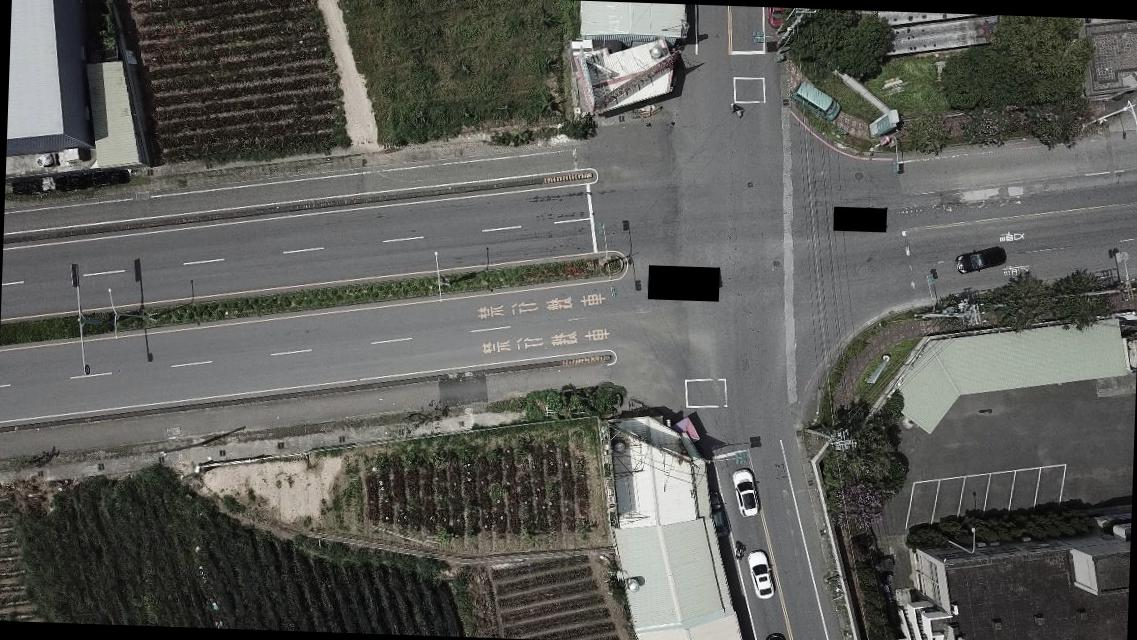vehicle: (792, 76, 838, 120), (954, 242, 1007, 276), (744, 548, 774, 600), (730, 466, 758, 516), (706, 494, 727, 536), (765, 8, 786, 28), (762, 632, 788, 639)
